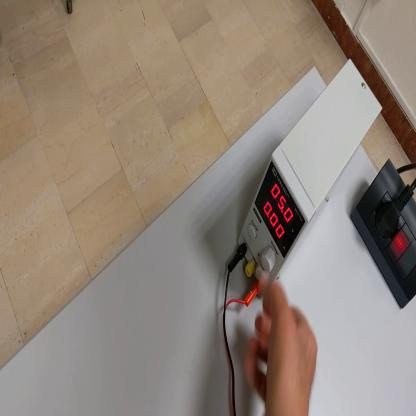hand: (246, 274, 319, 415)
power supply: (239, 58, 384, 281)
socket: (348, 151, 416, 311)
